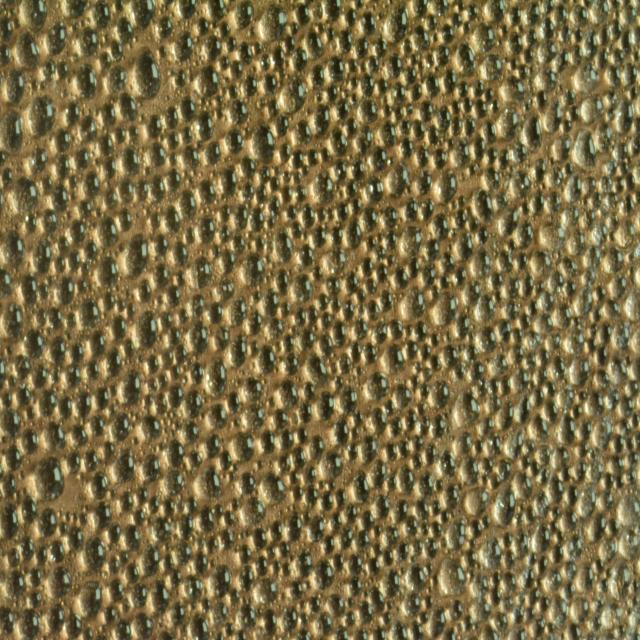dr: (31, 458, 67, 500), (134, 51, 161, 100), (26, 94, 56, 137), (537, 218, 568, 252), (279, 76, 306, 115), (440, 561, 468, 598), (1, 110, 24, 154), (15, 30, 40, 70), (134, 311, 161, 348), (469, 188, 495, 226), (452, 394, 481, 428), (12, 176, 38, 212), (126, 238, 150, 276), (384, 163, 410, 198), (43, 22, 68, 58), (79, 582, 105, 616), (575, 130, 596, 172), (262, 4, 286, 40), (434, 169, 458, 205), (82, 538, 107, 572), (74, 64, 98, 99), (432, 294, 460, 324), (400, 290, 430, 318), (252, 124, 274, 162), (206, 359, 228, 397), (23, 1, 48, 34), (3, 231, 25, 268), (120, 369, 142, 406), (304, 355, 330, 386), (602, 602, 623, 640), (196, 469, 223, 498), (617, 493, 640, 527), (2, 304, 23, 341), (240, 254, 265, 285), (350, 468, 372, 503), (96, 217, 119, 250), (47, 569, 74, 597), (312, 174, 337, 204), (365, 374, 390, 404), (111, 454, 136, 484), (497, 105, 519, 139), (262, 475, 286, 506), (576, 62, 599, 94), (232, 430, 255, 462), (456, 41, 477, 76), (462, 489, 491, 514), (32, 239, 52, 275), (388, 6, 408, 42), (383, 344, 407, 374), (523, 116, 544, 150), (190, 258, 212, 290), (496, 489, 516, 524), (1, 501, 18, 542), (118, 93, 141, 123), (400, 226, 423, 256), (151, 580, 170, 616), (305, 26, 325, 60), (501, 76, 527, 102), (79, 25, 100, 57), (473, 24, 497, 52), (44, 423, 68, 451), (446, 518, 467, 550), (140, 546, 162, 576), (199, 66, 220, 97), (131, 1, 155, 28), (104, 68, 128, 95), (612, 564, 631, 598), (108, 412, 131, 440), (583, 514, 606, 542), (593, 419, 613, 451), (475, 294, 495, 326), (6, 69, 24, 104), (608, 358, 629, 388), (481, 55, 504, 82), (120, 144, 140, 175), (618, 529, 638, 560), (37, 507, 57, 538), (243, 498, 265, 526), (623, 286, 640, 322), (197, 177, 218, 206), (461, 458, 482, 487), (37, 388, 58, 417), (98, 256, 118, 286), (314, 560, 334, 590), (18, 610, 41, 636), (181, 576, 204, 602), (480, 540, 503, 566), (615, 101, 633, 134), (429, 381, 451, 408), (512, 471, 534, 498), (472, 247, 491, 278), (551, 597, 570, 628), (188, 323, 209, 351), (273, 231, 293, 260), (532, 251, 552, 280), (570, 358, 590, 387), (280, 382, 300, 411), (220, 167, 238, 199), (528, 416, 552, 440), (141, 416, 164, 441), (63, 98, 82, 128), (174, 32, 193, 62), (5, 442, 24, 472), (55, 278, 75, 306), (260, 578, 280, 606), (282, 606, 302, 634), (74, 389, 92, 420), (285, 511, 303, 542), (116, 15, 135, 44), (90, 3, 111, 29), (539, 67, 560, 93), (511, 172, 532, 198), (1, 410, 22, 436), (244, 378, 265, 404), (321, 452, 342, 478), (598, 124, 615, 156), (617, 322, 634, 354), (234, 2, 254, 29), (82, 298, 100, 328), (230, 336, 248, 366), (578, 486, 596, 516), (188, 613, 208, 640), (428, 606, 446, 636), (606, 246, 625, 274), (558, 416, 577, 444), (313, 104, 330, 135), (180, 190, 197, 221), (584, 392, 605, 417), (26, 329, 44, 358), (229, 298, 247, 327), (500, 209, 518, 238), (316, 391, 334, 420), (142, 452, 160, 481), (52, 127, 72, 153), (615, 222, 635, 248), (63, 612, 83, 638), (385, 52, 404, 79), (197, 217, 216, 244), (293, 275, 312, 302), (416, 471, 435, 498), (168, 382, 185, 412), (346, 219, 363, 249), (453, 140, 470, 170), (236, 605, 258, 628), (582, 97, 603, 121), (554, 258, 578, 279), (210, 402, 228, 430), (368, 407, 386, 435), (308, 516, 326, 544), (296, 550, 314, 578), (98, 102, 118, 127), (551, 444, 571, 469), (261, 608, 277, 639), (548, 98, 563, 131), (412, 25, 431, 51), (483, 165, 502, 191), (94, 501, 113, 527), (7, 572, 26, 598), (164, 206, 181, 235), (534, 525, 551, 554), (361, 434, 378, 463), (408, 565, 425, 594), (30, 148, 48, 175), (330, 129, 348, 156), (218, 249, 236, 276), (456, 233, 474, 260), (223, 129, 244, 152), (477, 328, 498, 351), (181, 148, 201, 172), (41, 210, 61, 234), (87, 332, 107, 356), (260, 346, 276, 376), (328, 248, 348, 272), (578, 287, 594, 317), (338, 390, 358, 414), (20, 430, 40, 454), (370, 458, 386, 488), (398, 466, 414, 496), (198, 112, 215, 140), (585, 243, 602, 271), (432, 214, 449, 242), (497, 403, 514, 431), (198, 506, 215, 534), (203, 34, 222, 59), (171, 243, 190, 268), (553, 135, 572, 160), (456, 432, 475, 457), (327, 592, 346, 617), (79, 116, 97, 142), (51, 186, 69, 212), (148, 142, 166, 168), (236, 40, 254, 66), (230, 100, 248, 126), (308, 64, 326, 90), (328, 322, 346, 348), (516, 222, 534, 248), (332, 420, 350, 446), (167, 439, 185, 465), (134, 613, 152, 639), (538, 41, 559, 63), (471, 598, 492, 620), (150, 175, 167, 202), (186, 391, 203, 418), (47, 605, 64, 632), (590, 0, 609, 24), (307, 436, 326, 460), (70, 424, 89, 448), (168, 602, 187, 626), (23, 274, 38, 304), (424, 73, 442, 98), (462, 281, 480, 306), (381, 571, 399, 596), (295, 118, 311, 146), (50, 336, 66, 364), (371, 144, 387, 172), (0, 472, 16, 500), (215, 563, 231, 591), (0, 606, 16, 634), (403, 196, 420, 222), (68, 526, 85, 552), (370, 588, 387, 614), (572, 596, 589, 622), (164, 472, 185, 493), (484, 1, 506, 21), (246, 406, 265, 429), (277, 428, 296, 451), (153, 518, 172, 541), (145, 115, 163, 139), (382, 122, 398, 149), (110, 316, 128, 340), (366, 177, 382, 204), (568, 326, 584, 353), (430, 414, 446, 441), (94, 383, 110, 410), (70, 218, 87, 243), (14, 354, 31, 379), (444, 345, 461, 370), (389, 383, 406, 408), (91, 472, 108, 497), (180, 516, 197, 541), (114, 615, 131, 640), (440, 452, 457, 477), (84, 172, 100, 198), (293, 44, 309, 70), (328, 56, 344, 82), (357, 128, 373, 154), (106, 350, 122, 376), (566, 176, 582, 202), (498, 248, 514, 274), (392, 265, 408, 291), (205, 432, 221, 458), (238, 568, 254, 594), (109, 578, 125, 604), (109, 39, 127, 62), (248, 207, 266, 230), (610, 275, 628, 298), (417, 172, 434, 196), (549, 478, 566, 502), (373, 495, 390, 519), (125, 526, 142, 550), (207, 0, 227, 20), (337, 29, 353, 54), (582, 32, 598, 57), (613, 418, 633, 438), (545, 167, 564, 188), (403, 594, 422, 615), (65, 2, 87, 20), (176, 1, 198, 19), (325, 0, 343, 22), (359, 101, 377, 123), (204, 142, 222, 164), (506, 434, 524, 456), (565, 539, 583, 561), (319, 330, 333, 358), (521, 270, 535, 298), (620, 194, 637, 217), (175, 542, 192, 565), (131, 584, 148, 607), (264, 291, 279, 317), (437, 104, 452, 130), (599, 535, 614, 561), (516, 397, 531, 423), (349, 156, 365, 180), (569, 230, 585, 254), (388, 314, 404, 338), (56, 396, 72, 420), (65, 451, 81, 475), (184, 420, 200, 444), (393, 500, 409, 524), (317, 613, 333, 637), (472, 573, 488, 597), (434, 44, 452, 65), (602, 390, 620, 411), (580, 566, 593, 595), (75, 147, 90, 172), (242, 73, 257, 98), (487, 433, 502, 458), (343, 500, 358, 525), (118, 180, 135, 202), (153, 265, 170, 287), (347, 341, 364, 363), (571, 6, 588, 28), (563, 206, 580, 228), (554, 306, 571, 328), (418, 198, 435, 220), (82, 449, 99, 471), (1, 269, 13, 300), (180, 99, 196, 122), (298, 243, 314, 266), (31, 363, 47, 386), (540, 289, 556, 312), (425, 237, 441, 260), (383, 205, 399, 228), (588, 461, 604, 484), (260, 431, 276, 454), (252, 527, 268, 550), (234, 204, 248, 230), (359, 74, 374, 98), (406, 256, 421, 280), (498, 320, 513, 344), (22, 498, 37, 522), (50, 541, 68, 561), (207, 302, 224, 323), (64, 365, 81, 386), (78, 198, 94, 220), (136, 282, 152, 304), (440, 250, 456, 272), (606, 300, 622, 322), (525, 330, 541, 352), (486, 394, 502, 416), (424, 538, 440, 560), (532, 189, 545, 216), (249, 309, 263, 334), (606, 65, 620, 90), (364, 341, 378, 366), (384, 441, 398, 466), (194, 552, 208, 577), (390, 84, 408, 103), (390, 621, 408, 640), (101, 159, 118, 179), (83, 240, 100, 260), (240, 474, 257, 494), (501, 574, 518, 594), (165, 104, 179, 128), (166, 285, 182, 306), (527, 1, 541, 25), (534, 158, 548, 182), (594, 221, 608, 245), (456, 314, 470, 338), (493, 354, 509, 375), (227, 391, 241, 415), (444, 482, 458, 506), (535, 495, 549, 519), (158, 17, 173, 39), (55, 157, 70, 179), (361, 13, 376, 35), (118, 210, 133, 232), (276, 270, 291, 292), (326, 273, 341, 295), (375, 264, 390, 286), (508, 35, 523, 57), (415, 147, 430, 169), (595, 370, 610, 392), (380, 289, 395, 311), (292, 446, 307, 468), (355, 529, 370, 551), (227, 60, 244, 79), (300, 330, 317, 349), (410, 0, 429, 17), (534, 443, 551, 462), (264, 72, 278, 95), (312, 226, 326, 249), (154, 392, 168, 415), (420, 99, 434, 122), (433, 147, 447, 170), (375, 321, 389, 344), (514, 370, 528, 393), (221, 527, 235, 550), (292, 578, 306, 601), (609, 458, 625, 478), (538, 314, 554, 334), (358, 601, 374, 621), (99, 135, 114, 156), (506, 278, 521, 299), (413, 320, 428, 341), (559, 387, 574, 408), (238, 544, 253, 565), (0, 20, 13, 44), (43, 58, 56, 82), (384, 228, 397, 252), (278, 452, 291, 476), (395, 539, 408, 563), (518, 530, 530, 556), (167, 170, 181, 192), (242, 156, 256, 178), (154, 234, 168, 256), (345, 272, 359, 294), (354, 319, 368, 341), (366, 299, 380, 321), (443, 70, 457, 92), (513, 142, 527, 164), (7, 546, 21, 568), (108, 522, 122, 544), (270, 520, 284, 542), (348, 554, 362, 576), (404, 514, 418, 536), (386, 525, 400, 547), (308, 594, 322, 616), (549, 570, 563, 592), (104, 189, 120, 208), (336, 353, 352, 372), (301, 380, 317, 399), (421, 267, 437, 286), (504, 300, 520, 319), (400, 140, 415, 160), (494, 192, 509, 212), (566, 509, 578, 534), (91, 416, 106, 436), (304, 486, 319, 506), (162, 496, 177, 516), (205, 535, 220, 555), (1, 166, 14, 189), (286, 351, 299, 374), (622, 30, 635, 53), (473, 135, 486, 158), (340, 526, 353, 549), (296, 6, 310, 27), (367, 54, 381, 75), (191, 296, 205, 317), (232, 234, 246, 255), (282, 332, 296, 353), (594, 49, 608, 70), (600, 493, 614, 514), (189, 448, 203, 469), (132, 506, 146, 527), (432, 1, 449, 18), (402, 65, 419, 82), (365, 229, 377, 253), (554, 52, 570, 70), (27, 590, 43, 608), (352, 624, 370, 640), (99, 48, 112, 70), (40, 173, 53, 195), (190, 363, 203, 385), (271, 318, 284, 340), (294, 308, 307, 330), (454, 208, 467, 230), (626, 376, 639, 398), (565, 485, 578, 507), (554, 356, 565, 382), (418, 416, 431, 438), (173, 68, 188, 87), (240, 183, 255, 202), (521, 567, 536, 586), (322, 535, 337, 554), (336, 100, 350, 120), (68, 250, 82, 270), (48, 308, 62, 328), (302, 206, 316, 226), (186, 494, 200, 514), (34, 545, 48, 565), (28, 568, 42, 588), (126, 563, 140, 583), (414, 499, 428, 519), (450, 599, 464, 619), (549, 191, 561, 214), (22, 537, 34, 560), (283, 32, 296, 53), (599, 324, 612, 345), (531, 387, 544, 408), (473, 436, 486, 457), (497, 460, 510, 481), (534, 616, 547, 637), (604, 211, 620, 228), (118, 493, 134, 510), (466, 214, 481, 232), (536, 348, 551, 366), (565, 622, 580, 640), (70, 343, 84, 362), (16, 388, 30, 407), (411, 122, 425, 141), (404, 409, 418, 428), (161, 553, 175, 572), (0, 44, 12, 66), (556, 5, 568, 27), (614, 46, 626, 68), (624, 62, 636, 84), (484, 120, 495, 144), (454, 266, 466, 288), (552, 542, 564, 564), (546, 400, 558, 422), (256, 556, 268, 578), (496, 612, 508, 634), (525, 28, 538, 48), (497, 149, 510, 169), (620, 396, 633, 416), (300, 402, 313, 422), (104, 606, 117, 626), (600, 472, 616, 488), (575, 441, 590, 458), (582, 417, 593, 440), (523, 436, 534, 459), (391, 415, 402, 438), (165, 132, 179, 150), (374, 38, 388, 56), (356, 36, 368, 57), (267, 196, 281, 214), (149, 212, 163, 230), (285, 205, 299, 223), (361, 256, 373, 277), (343, 300, 355, 321), (541, 20, 555, 38), (426, 126, 440, 144), (486, 146, 498, 167), (405, 341, 419, 359), (346, 440, 358, 461), (218, 451, 232, 469), (331, 511, 343, 532), (470, 517, 482, 538), (225, 34, 238, 53), (216, 329, 229, 348), (463, 117, 476, 136), (606, 519, 619, 538), (321, 492, 334, 511), (368, 557, 381, 576), (136, 180, 148, 200), (54, 255, 66, 275), (291, 149, 303, 169), (334, 160, 346, 180), (426, 12, 438, 32), (584, 208, 596, 228), (274, 412, 290, 427), (399, 441, 411, 461), (490, 588, 502, 608), (221, 280, 235, 297), (174, 345, 188, 362), (582, 176, 596, 193), (102, 441, 116, 458), (482, 626, 499, 640), (57, 61, 70, 79), (278, 144, 291, 162), (280, 185, 293, 203), (123, 339, 136, 357), (86, 361, 99, 379), (146, 355, 159, 373), (305, 306, 318, 324), (570, 48, 583, 66), (450, 97, 463, 115), (617, 143, 630, 161), (564, 280, 577, 298), (438, 272, 451, 290), (583, 268, 596, 286), (107, 556, 120, 574), (410, 622, 423, 640), (157, 629, 178, 640), (426, 443, 436, 466), (197, 17, 209, 36), (268, 99, 280, 118), (346, 118, 358, 137), (288, 467, 300, 486), (170, 572, 182, 591), (603, 94, 619, 108), (598, 177, 612, 193), (610, 436, 624, 452), (622, 470, 638, 484), (412, 433, 426, 449), (348, 579, 362, 595), (371, 626, 387, 640), (624, 626, 640, 640), (259, 54, 272, 71), (344, 9, 357, 26), (441, 26, 454, 43), (419, 344, 432, 361), (444, 623, 457, 640), (529, 584, 540, 604), (128, 124, 140, 142), (25, 214, 37, 232), (269, 175, 281, 193), (276, 117, 288, 135), (338, 204, 350, 222), (331, 226, 343, 244), (366, 278, 378, 296), (467, 3, 479, 21), (510, 6, 522, 24), (625, 6, 637, 24), (610, 21, 622, 39), (627, 450, 639, 468), (476, 378, 488, 396), (529, 459, 541, 477), (334, 554, 346, 572), (502, 533, 514, 551), (275, 46, 285, 67), (549, 333, 563, 348), (428, 355, 442, 370), (499, 378, 513, 393), (256, 184, 267, 203), (317, 293, 328, 312), (528, 299, 539, 318), (362, 509, 373, 528), (291, 170, 304, 186), (410, 84, 423, 100), (593, 287, 606, 303), (304, 466, 317, 482), (503, 596, 516, 612), (597, 576, 610, 592), (115, 127, 127, 144), (228, 82, 240, 99), (181, 128, 193, 145), (35, 309, 47, 326), (103, 293, 115, 310), (184, 227, 196, 244), (345, 181, 357, 198), (512, 326, 524, 343), (595, 348, 607, 365), (524, 354, 536, 371), (2, 391, 14, 408), (137, 488, 149, 505), (308, 148, 318, 168), (632, 133, 640, 158), (625, 171, 635, 191), (220, 21, 231, 39), (219, 226, 230, 244), (259, 166, 270, 184), (147, 378, 158, 396), (332, 296, 343, 314), (355, 286, 366, 304), (451, 117, 462, 135), (463, 96, 474, 114), (473, 80, 484, 98), (468, 344, 479, 362), (419, 382, 430, 400), (514, 606, 525, 624), (512, 626, 526, 640), (296, 427, 309, 442), (58, 238, 70, 254), (0, 358, 6, 390), (492, 272, 504, 288), (627, 610, 639, 626), (281, 301, 291, 320), (221, 52, 230, 73), (327, 85, 338, 102), (142, 394, 153, 411), (521, 312, 532, 329), (473, 362, 484, 379), (431, 521, 442, 538), (505, 551, 516, 568), (168, 330, 181, 344), (564, 91, 578, 104), (461, 616, 474, 630), (379, 78, 389, 96), (164, 348, 174, 366), (50, 370, 62, 385), (352, 200, 364, 215), (606, 159, 616, 177), (514, 346, 524, 364), (477, 229, 489, 244), (384, 399, 394, 417), (265, 545, 277, 560), (525, 507, 535, 525), (595, 595, 605, 613), (12, 16, 23, 32), (161, 313, 172, 329), (25, 405, 36, 421), (400, 120, 411, 136), (553, 273, 564, 289), (416, 402, 427, 418), (412, 452, 423, 468), (149, 497, 160, 513), (466, 550, 477, 566), (315, 1, 324, 20), (220, 206, 230, 223), (255, 235, 265, 252), (296, 185, 306, 202), (375, 245, 385, 262), (561, 465, 571, 482), (599, 28, 611, 42), (476, 103, 488, 117), (535, 92, 547, 106), (505, 240, 517, 254), (292, 486, 304, 500), (96, 626, 108, 640), (220, 604, 232, 618), (383, 550, 395, 564), (411, 539, 423, 553), (523, 49, 534, 64), (403, 39, 414, 54), (613, 177, 624, 192), (429, 332, 440, 347), (545, 381, 556, 396), (335, 490, 346, 505), (57, 521, 68, 536), (461, 631, 479, 640), (539, 556, 548, 574), (40, 284, 50, 300), (383, 103, 393, 119), (126, 304, 136, 320), (250, 338, 260, 354), (322, 311, 332, 327), (395, 106, 405, 122), (608, 192, 618, 208), (574, 402, 584, 418), (349, 426, 359, 442), (230, 588, 240, 604), (200, 599, 210, 615), (120, 596, 130, 612), (540, 594, 550, 610), (421, 368, 434, 380), (253, 42, 264, 56), (292, 222, 303, 236), (543, 1, 554, 15), (577, 390, 588, 404), (177, 270, 186, 287), (296, 631, 313, 640), (66, 314, 76, 329), (179, 309, 189, 324), (212, 245, 222, 260), (452, 13, 462, 28), (518, 66, 528, 81), (592, 193, 602, 208), (458, 193, 468, 208), (520, 200, 530, 215), (630, 412, 640, 427), (488, 379, 498, 394), (281, 542, 291, 557), (346, 612, 356, 627), (423, 563, 433, 578), (382, 611, 392, 626), (463, 20, 472, 36), (588, 336, 597, 352), (518, 588, 526, 606), (333, 374, 342, 390), (224, 510, 233, 526), (120, 550, 129, 566), (213, 628, 225, 640), (337, 628, 349, 640), (492, 572, 501, 588), (347, 59, 358, 72), (424, 53, 435, 66), (484, 89, 495, 102), (114, 0, 124, 14), (320, 148, 330, 162), (77, 280, 87, 294), (562, 27, 572, 41), (458, 82, 468, 96), (571, 106, 581, 120), (518, 254, 528, 268), (534, 280, 544, 294), (537, 368, 547, 382), (268, 398, 278, 412), (424, 596, 434, 610), (566, 582, 576, 596), (586, 630, 600, 640), (356, 409, 364, 426), (350, 76, 359, 91), (267, 213, 276, 228), (563, 118, 572, 133), (492, 99, 501, 114), (468, 163, 477, 178), (388, 474, 397, 489), (481, 513, 490, 528), (595, 558, 604, 573), (454, 1, 466, 12), (70, 52, 80, 65), (593, 616, 603, 629), (594, 307, 602, 323), (38, 77, 47, 91), (291, 20, 300, 34), (256, 97, 265, 111), (265, 240, 274, 254), (314, 267, 323, 281), (575, 28, 584, 42), (607, 107, 616, 121), (600, 205, 609, 219), (283, 563, 292, 577), (354, 0, 365, 11), (82, 629, 93, 640), (31, 77, 39, 92), (158, 46, 168, 58), (172, 366, 180, 381), (564, 164, 574, 176), (214, 504, 222, 519), (491, 472, 499, 487), (282, 170, 291, 183), (629, 85, 638, 98), (524, 99, 533, 112), (387, 253, 396, 266), (410, 375, 419, 388), (70, 174, 78, 188), (169, 153, 177, 167), (327, 28, 335, 42), (410, 51, 418, 65), (406, 101, 414, 115), (633, 116, 640, 132), (435, 478, 443, 492), (433, 502, 441, 516), (568, 564, 576, 578), (630, 577, 638, 591), (93, 208, 104, 218), (158, 374, 168, 385), (588, 326, 598, 337), (614, 478, 624, 489), (549, 629, 559, 640), (109, 384, 118, 396), (499, 24, 508, 36), (494, 291, 503, 303), (590, 449, 599, 461), (627, 436, 634, 451), (530, 550, 537, 565), (375, 523, 382, 538), (117, 299, 125, 312), (432, 285, 440, 298), (551, 520, 559, 533), (522, 457, 530, 470), (420, 522, 428, 535), (214, 97, 224, 107), (256, 461, 265, 472), (279, 66, 286, 80), (319, 207, 326, 221), (432, 31, 439, 45), (0, 152, 6, 168), (82, 263, 90, 275), (274, 342, 282, 354), (406, 324, 414, 336), (527, 608, 535, 620), (0, 2, 7, 15), (254, 290, 261, 303), (178, 499, 185, 512), (0, 192, 5, 210), (225, 624, 234, 634), (8, 10, 16, 21), (302, 164, 310, 175), (5, 346, 13, 357), (290, 324, 298, 335), (551, 508, 559, 519), (232, 498, 240, 509), (80, 513, 88, 524), (374, 545, 382, 556), (157, 294, 164, 306), (609, 229, 616, 241), (432, 573, 438, 587), (237, 631, 246, 640), (60, 88, 68, 98), (216, 108, 224, 118), (510, 60, 518, 70), (621, 163, 629, 173), (302, 613, 308, 626), (274, 165, 281, 176), (248, 229, 255, 240), (458, 367, 465, 378), (134, 436, 141, 447), (274, 561, 281, 572), (211, 21, 219, 30), (65, 211, 73, 220), (328, 208, 334, 220), (414, 364, 423, 372), (442, 332, 451, 340), (348, 596, 354, 608), (468, 568, 474, 580), (138, 354, 145, 364), (388, 156, 395, 166), (304, 512, 311, 522), (485, 461, 492, 471), (455, 622, 462, 632), (518, 515, 525, 525), (317, 92, 323, 103), (377, 230, 383, 241), (418, 60, 424, 71), (629, 263, 635, 274), (229, 471, 235, 482), (612, 0, 620, 8), (558, 84, 566, 92), (48, 276, 55, 285), (633, 53, 640, 62), (606, 567, 613, 576), (450, 228, 456, 238), (628, 356, 633, 368), (421, 614, 427, 624), (624, 607, 630, 617), (342, 91, 350, 98), (443, 510, 448, 521), (331, 481, 337, 490), (239, 533, 245, 542), (126, 289, 131, 299), (130, 411, 135, 421), (20, 488, 30, 493), (20, 469, 25, 479), (410, 554, 415, 564), (559, 534, 565, 542), (23, 568, 29, 576), (210, 560, 216, 568), (482, 474, 488, 482), (470, 540, 476, 548), (388, 602, 394, 610), (352, 95, 357, 104), (111, 489, 116, 498), (633, 598, 638, 607), (280, 77, 284, 88), (266, 253, 270, 264), (401, 565, 405, 576), (233, 463, 239, 470), (71, 194, 76, 202), (378, 11, 383, 19), (248, 240, 252, 250), (267, 273, 271, 283), (504, 56, 509, 64), (497, 38, 502, 46), (530, 66, 535, 74), (450, 138, 454, 148), (584, 197, 589, 205), (74, 512, 78, 522), (361, 62, 365, 71), (146, 207, 150, 216), (304, 230, 308, 239), (141, 448, 147, 454), (318, 482, 324, 488), (628, 158, 633, 165), (182, 625, 187, 632), (271, 268, 275, 276), (324, 223, 328, 231), (32, 389, 36, 397), (136, 412, 140, 420), (183, 376, 187, 384), (130, 422, 134, 430), (160, 444, 164, 452), (66, 513, 70, 521), (292, 552, 295, 562), (247, 530, 250, 540), (307, 108, 311, 115), (274, 261, 278, 268), (383, 4, 388, 9), (388, 0, 393, 5), (442, 137, 446, 143), (171, 431, 175, 436), (86, 507, 90, 512), (117, 613, 121, 618), (520, 505, 524, 510), (365, 584, 369, 588), (428, 589, 432, 593), (374, 5, 376, 11), (172, 419, 175, 423), (178, 422, 180, 427), (476, 625, 478, 630)
